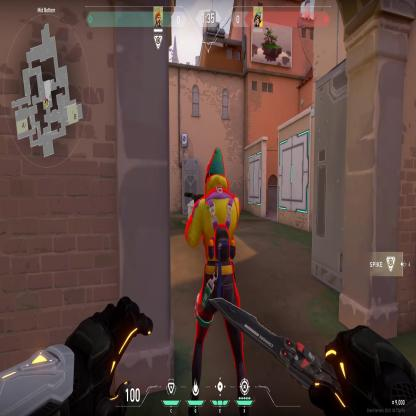enemy: (186, 145, 243, 301)
